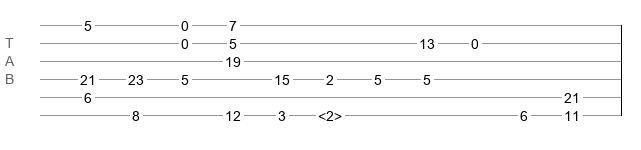0: (181, 36, 189, 46), (181, 18, 189, 28), (471, 36, 479, 46)
11: (564, 108, 580, 118)
12: (225, 108, 241, 118)
13: (419, 36, 435, 46)
15: (274, 72, 290, 82)
19: (225, 54, 241, 64)
2: (326, 72, 334, 82)
21: (80, 72, 96, 82), (564, 90, 580, 100)
23: (128, 72, 144, 82)
3: (278, 108, 286, 118)
5: (84, 18, 92, 28), (181, 72, 189, 82), (229, 36, 237, 46), (374, 72, 382, 82), (423, 72, 431, 82)
6: (84, 90, 92, 100), (520, 108, 528, 118)
7: (229, 18, 237, 28)
8: (132, 108, 140, 118)
harmonic: (318, 108, 342, 118)
